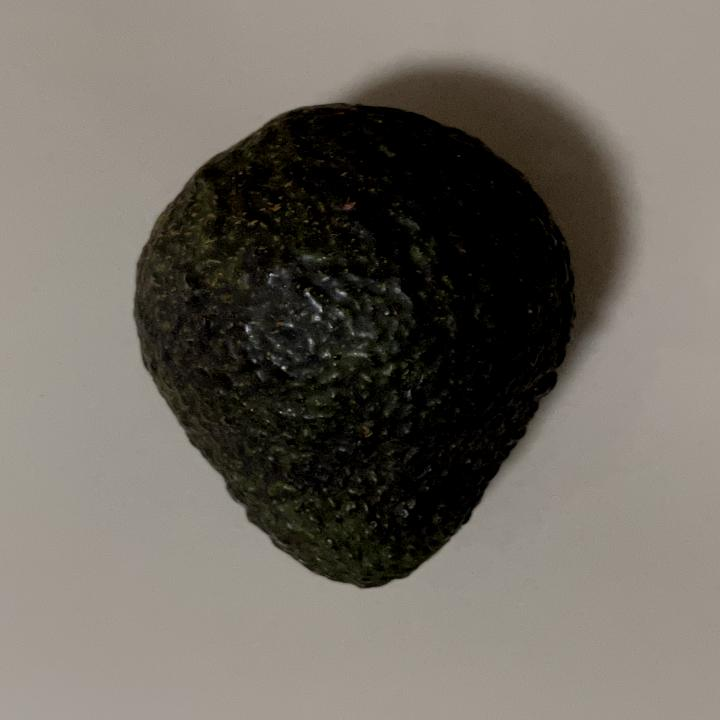Level1: (118, 86, 592, 604)
